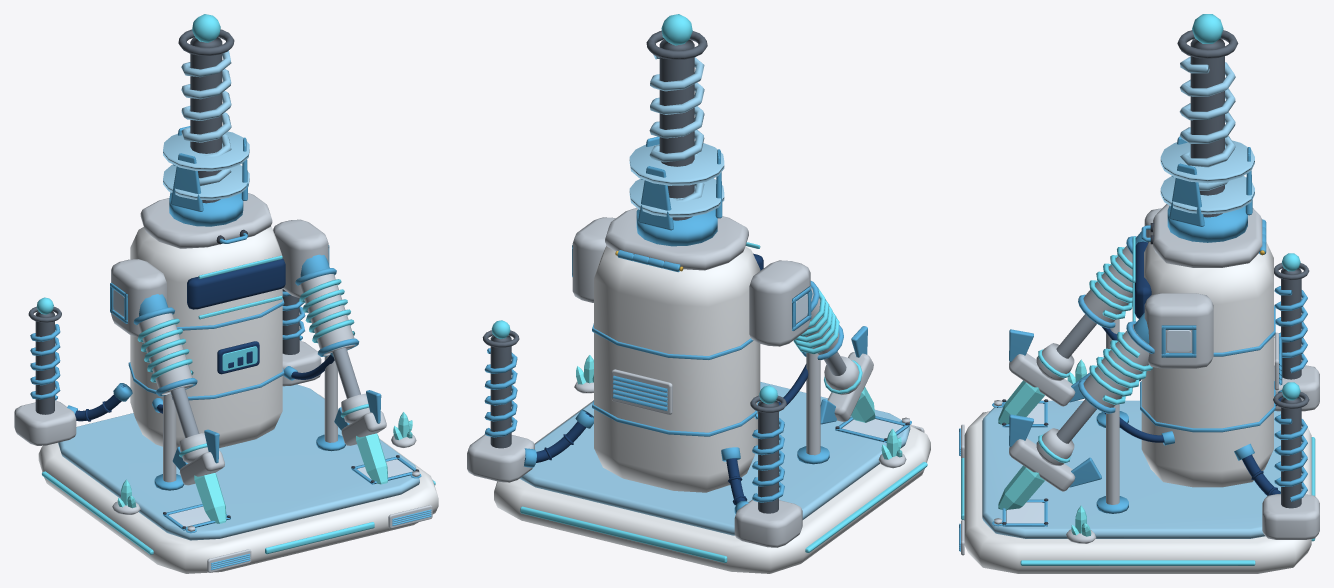
File: IcePickPost_T3.fbx
3 views of the same model, side by side, from view 1: azimuth 30°, elevation 25°; view 2: azimuth 150°, elevation 25°; view 3: azimuth 270°, elevation 25° (orthographic). The views are drawn at different scales.
Parts seen in each view (by area): view 1: IcePickPostT3Deck, IcePickPostT3Tower, IcePickPostT3Coil, IcePickPostT3BackCoils, IcePickPostT3PistonA, IcePickPostT3PistonB, IcePickPostT3PickA, IcePickPostT3PickB, IcePickPostT3DeckGlow, IcePickPostT3PistonACoilGlow, IcePickPostT3PistonBCoilGlow, IcePickPostT3TowerGlow (+4 smaller); view 2: IcePickPostT3Tower, IcePickPostT3Deck, IcePickPostT3Coil, IcePickPostT3BackCoils, IcePickPostT3PistonA, IcePickPostT3DeckGlow, IcePickPostT3PickA, IcePickPostT3PistonB, IcePickPostT3PistonACoilGlow, IcePickPostT3BackCoilsGlow, IcePickPostT3PickAGlow, IcePickPostT3CoilGlow; view 3: IcePickPostT3Deck, IcePickPostT3Tower, IcePickPostT3Coil, IcePickPostT3PistonB, IcePickPostT3BackCoils, IcePickPostT3PickB, IcePickPostT3PistonA, IcePickPostT3PickA, IcePickPostT3DeckGlow, IcePickPostT3PistonBCoilGlow, IcePickPostT3PistonACoilGlow, IcePickPostT3PickBGlow (+3 smaller).
Boxes of the visible parts, left/top/right/bottom form: IcePickPostT3Deck: left=38, top=384, right=438, bottom=573; IcePickPostT3Tower: left=128, top=193, right=285, bottom=449; IcePickPostT3Coil: left=163, top=29, right=249, bottom=226; IcePickPostT3BackCoils: left=14, top=289, right=416, bottom=514; IcePickPostT3PistonA: left=110, top=259, right=199, bottom=490; IcePickPostT3PistonB: left=273, top=219, right=360, bottom=451; IcePickPostT3PickA: left=172, top=429, right=224, bottom=485; IcePickPostT3PickB: left=334, top=390, right=386, bottom=445; IcePickPostT3DeckGlow: left=42, top=471, right=435, bottom=554; IcePickPostT3PistonACoilGlow: left=137, top=318, right=193, bottom=382; IcePickPostT3PistonBCoilGlow: left=299, top=279, right=354, bottom=343; IcePickPostT3TowerGlow: left=198, top=255, right=282, bottom=371; IcePickPostT3Tower: left=592, top=208, right=763, bottom=492; IcePickPostT3Deck: left=494, top=382, right=930, bottom=573; IcePickPostT3Coil: left=629, top=30, right=724, bottom=246; IcePickPostT3BackCoils: left=467, top=330, right=906, bottom=547; IcePickPostT3PistonA: left=749, top=260, right=846, bottom=464; IcePickPostT3DeckGlow: left=520, top=462, right=927, bottom=562; IcePickPostT3PickA: left=820, top=326, right=873, bottom=424; IcePickPostT3PistonB: left=572, top=217, right=615, bottom=302; IcePickPostT3PistonACoilGlow: left=793, top=288, right=839, bottom=353; IcePickPostT3BackCoilsGlow: left=491, top=320, right=902, bottom=459; IcePickPostT3PickAGlow: left=824, top=360, right=875, bottom=422; IcePickPostT3CoilGlow: left=661, top=14, right=692, bottom=45; IcePickPostT3Deck: left=959, top=399, right=1311, bottom=573; IcePickPostT3Tower: left=1134, top=204, right=1282, bottom=487; IcePickPostT3Coil: left=1160, top=30, right=1254, bottom=242; IcePickPostT3PistonB: left=1056, top=293, right=1213, bottom=513; IcePickPostT3BackCoils: left=1066, top=263, right=1319, bottom=543; IcePickPostT3PickB: left=1009, top=414, right=1101, bottom=491; IcePickPostT3PistonA: left=1056, top=208, right=1161, bottom=427; IcePickPostT3PickA: left=1009, top=329, right=1090, bottom=406; IcePickPostT3DeckGlow: left=961, top=437, right=1315, bottom=565; IcePickPostT3PistonBCoilGlow: left=1089, top=332, right=1152, bottom=404; IcePickPostT3PistonACoilGlow: left=1089, top=247, right=1132, bottom=319; IcePickPostT3PickBGlow: left=998, top=434, right=1070, bottom=510.
Bounding box in the file's own units: 207 × 300 × 200.
